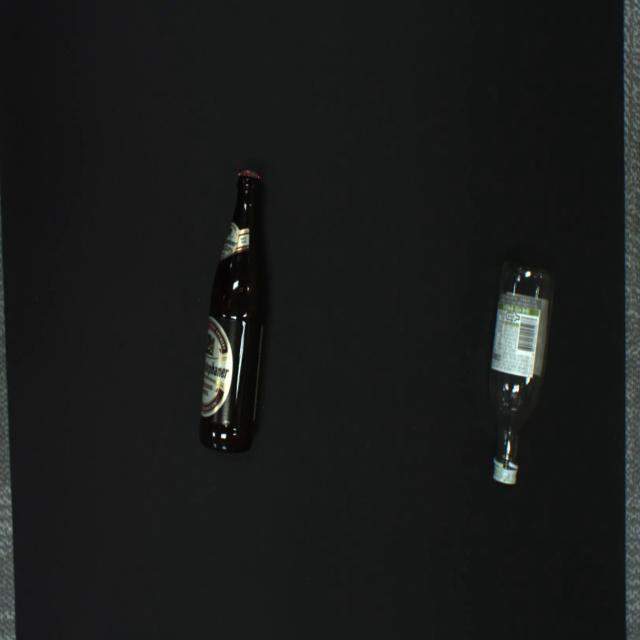beer-bottle: (199, 170, 267, 452)
soju-bottle: (489, 263, 555, 484)
